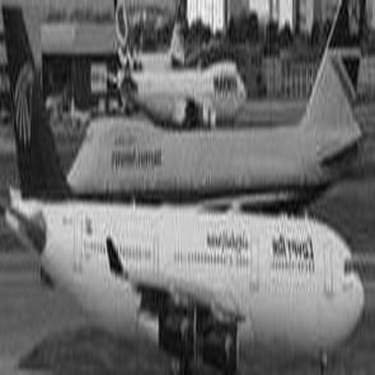airplane: (1, 179, 369, 368), (48, 14, 361, 202)
